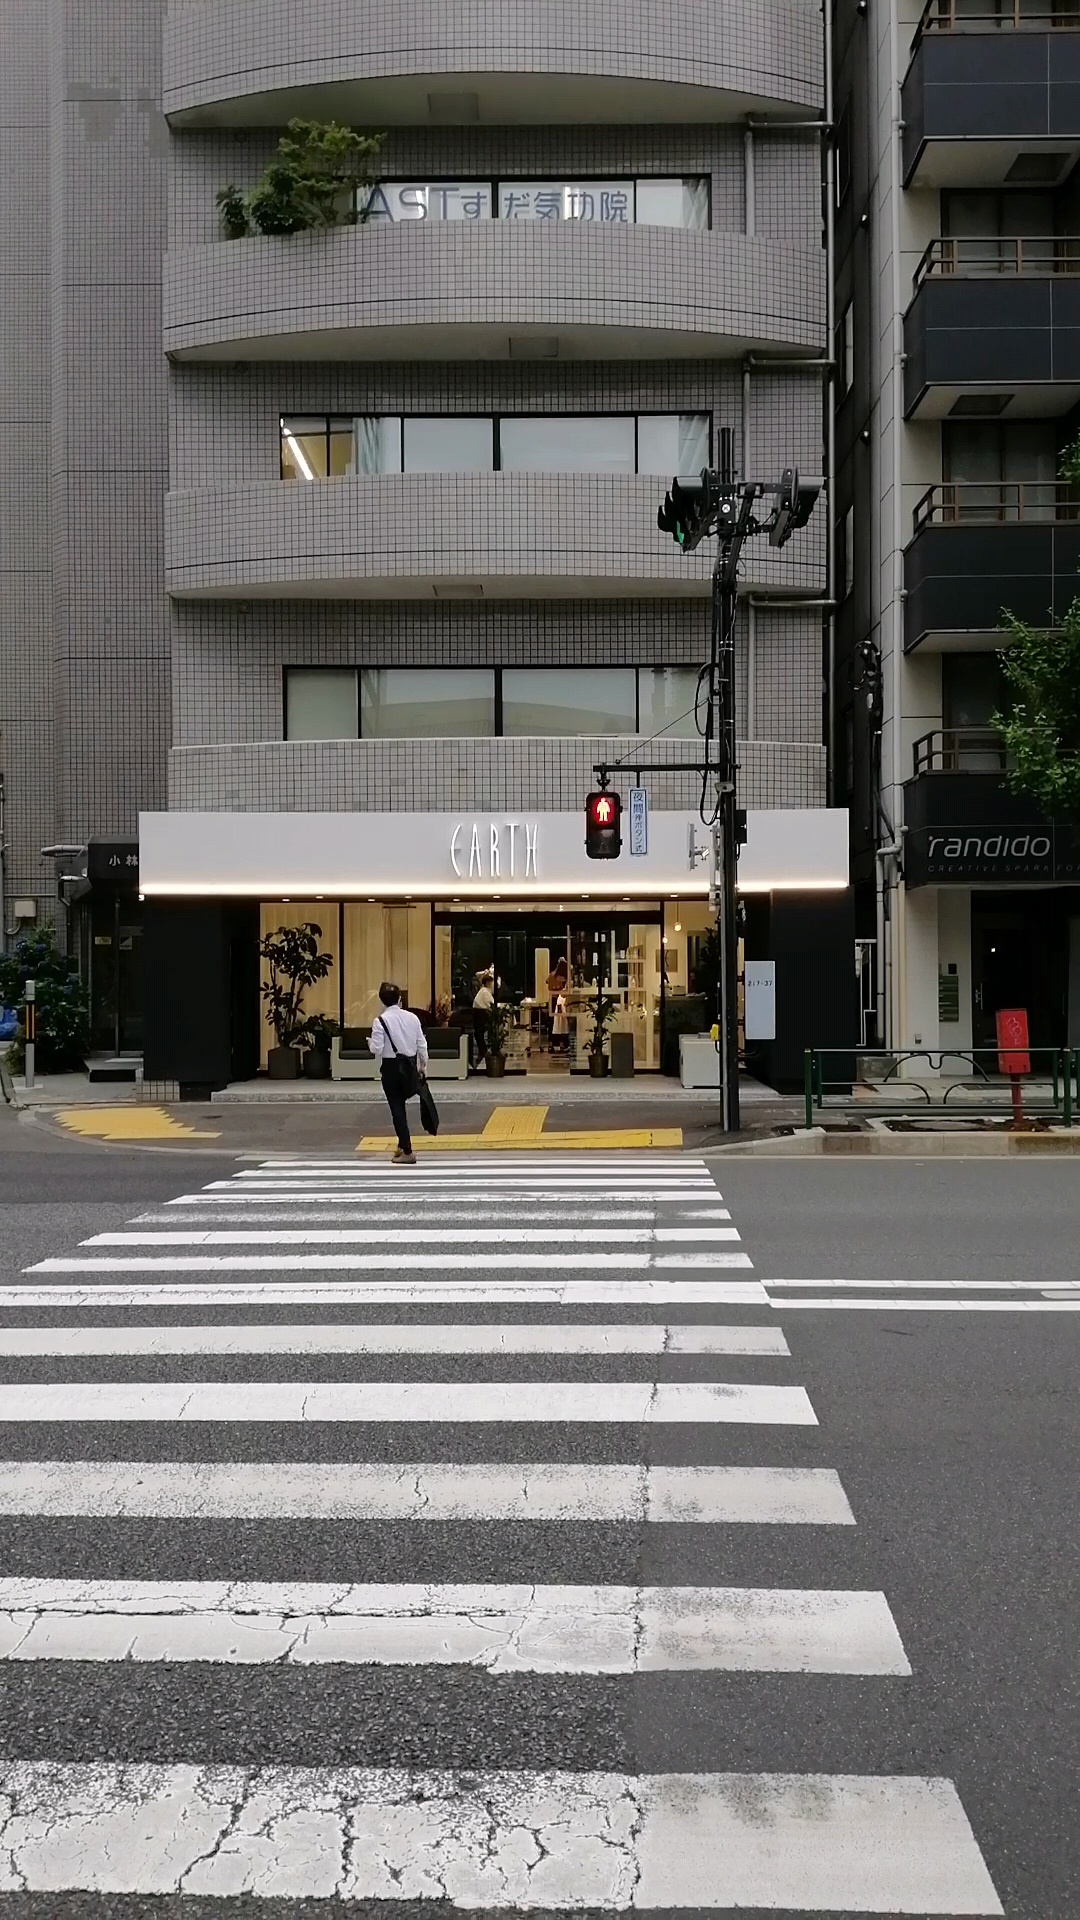red: (584, 793, 620, 858)
